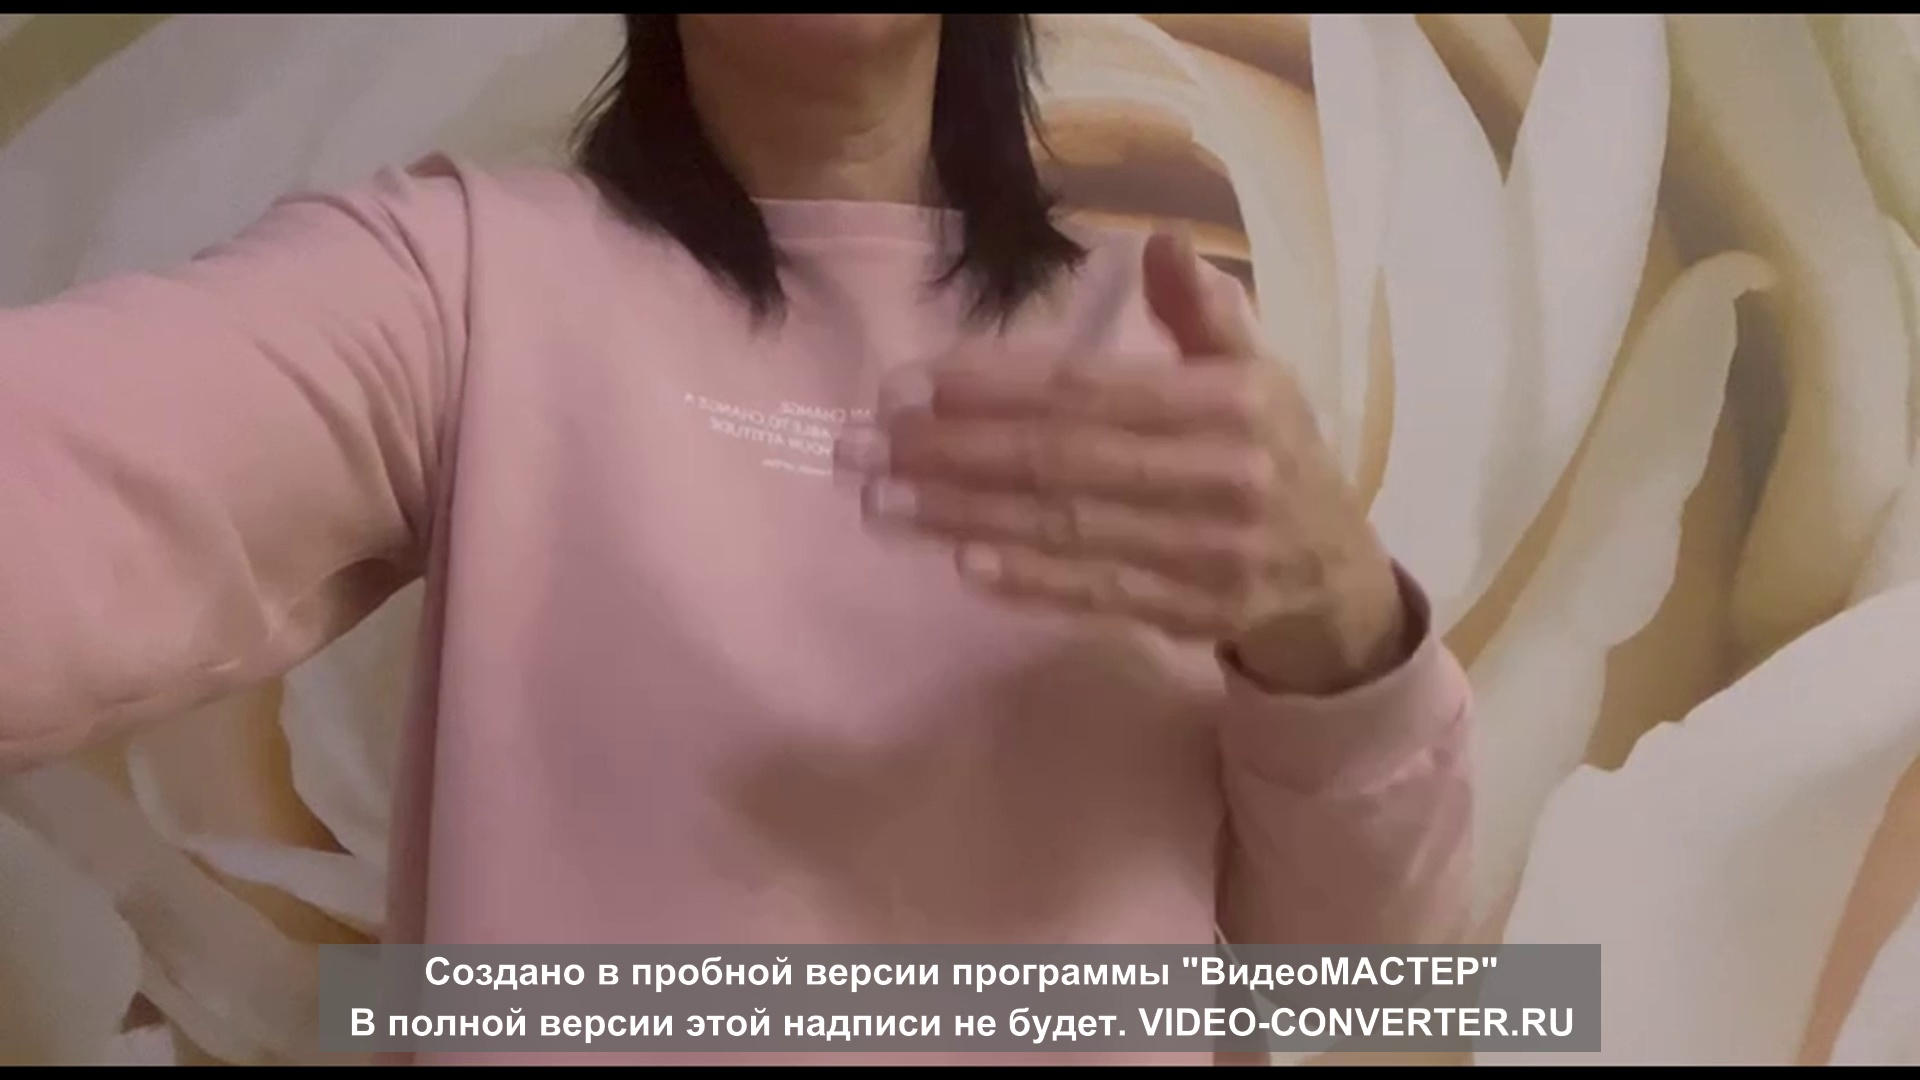Кисть: (832, 212, 1333, 638)
